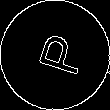P_W: (25, 29, 85, 81)
